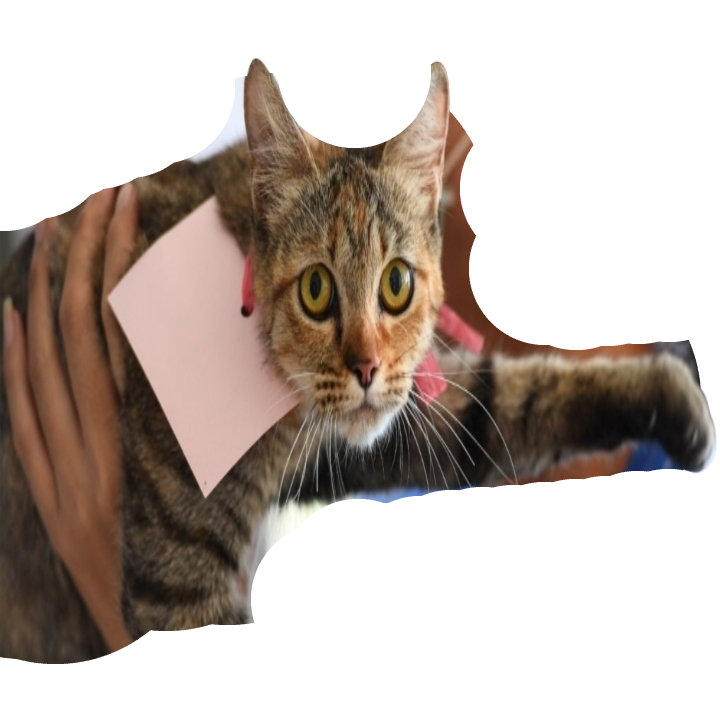Cat: (0, 52, 719, 664)
